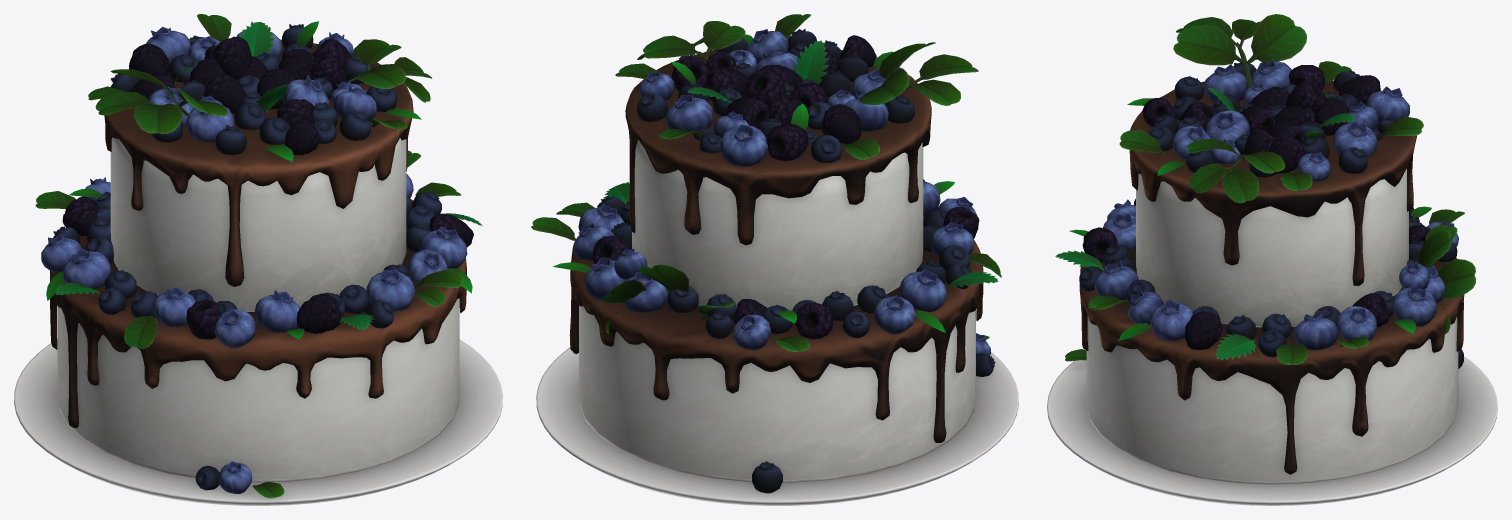
Rendered from mrk6564obj.fbx.
3 renders of one model, left to right at view 1: azimuth 30°, elevation 25°; view 2: azimuth 150°, elevation 25°; view 3: azimuth 270°, elevation 25°, orthographic. The views are drawn at different scales.
Parts seen in each view (by area): view 1: 1st floor, 2nd floor, Plate, 2, 1, Plane.006, Plane.007, Cube.022, Cube.018, Cube.004, raspberry.011, Cube.019 (+39 smaller); view 2: 1st floor, 2nd floor, 2, Plate, 1, Plane.006, Plane.007, Cube.026, Plane.008, Cube.004, Cube.012, raspberry.002 (+40 smaller); view 3: 1st floor, 2nd floor, Plate, 2, 1, Plane.006, Plane.007, Plane.008, Cube.006, Cube.015, Cube.013, raspberry.010 (+35 smaller).
Boxes of the visible parts, x1,y1,x2,y2 form: 1st floor: (57,298,459,482); 2nd floor: (110,137,406,311); Plate: (14,339,502,505); 2: (50,199,466,427); 1: (104,38,413,286); Plane.006: (95,69,227,133); Plane.007: (347,42,432,102); Cube.022: (366,269,414,311); Cube.018: (255,289,300,332); Cube.004: (63,248,111,289); raspberry.011: (296,293,341,333); Cube.019: (214,309,255,348); 1st floor: (579,306,975,482); 2nd floor: (632,139,923,310); 2: (569,207,983,442); Plate: (536,347,1018,505); 1: (625,50,931,245); Plane.006: (859,42,978,105); Plane.007: (637,21,745,61); Cube.026: (719,124,767,166); Plane.008: (601,264,688,333); Cube.004: (899,269,946,312); Cube.012: (666,94,713,131); raspberry.002: (766,124,808,160); 1st floor: (1086,316,1458,484); 2nd floor: (1136,169,1408,327); Plate: (1047,356,1497,505); 2: (1079,249,1464,474); 1: (1129,80,1416,285); Plane.006: (1173,14,1306,88); Plane.007: (1186,139,1285,203); Plane.008: (1417,230,1476,334); Cube.006: (1392,286,1436,326); Cube.015: (1150,299,1193,341); Cube.013: (1293,311,1337,350); raspberry.010: (1184,311,1222,349).
Size of the model in its own units: 3.69 by 3.08 by 3.68.
2 materials, 2 textured.
